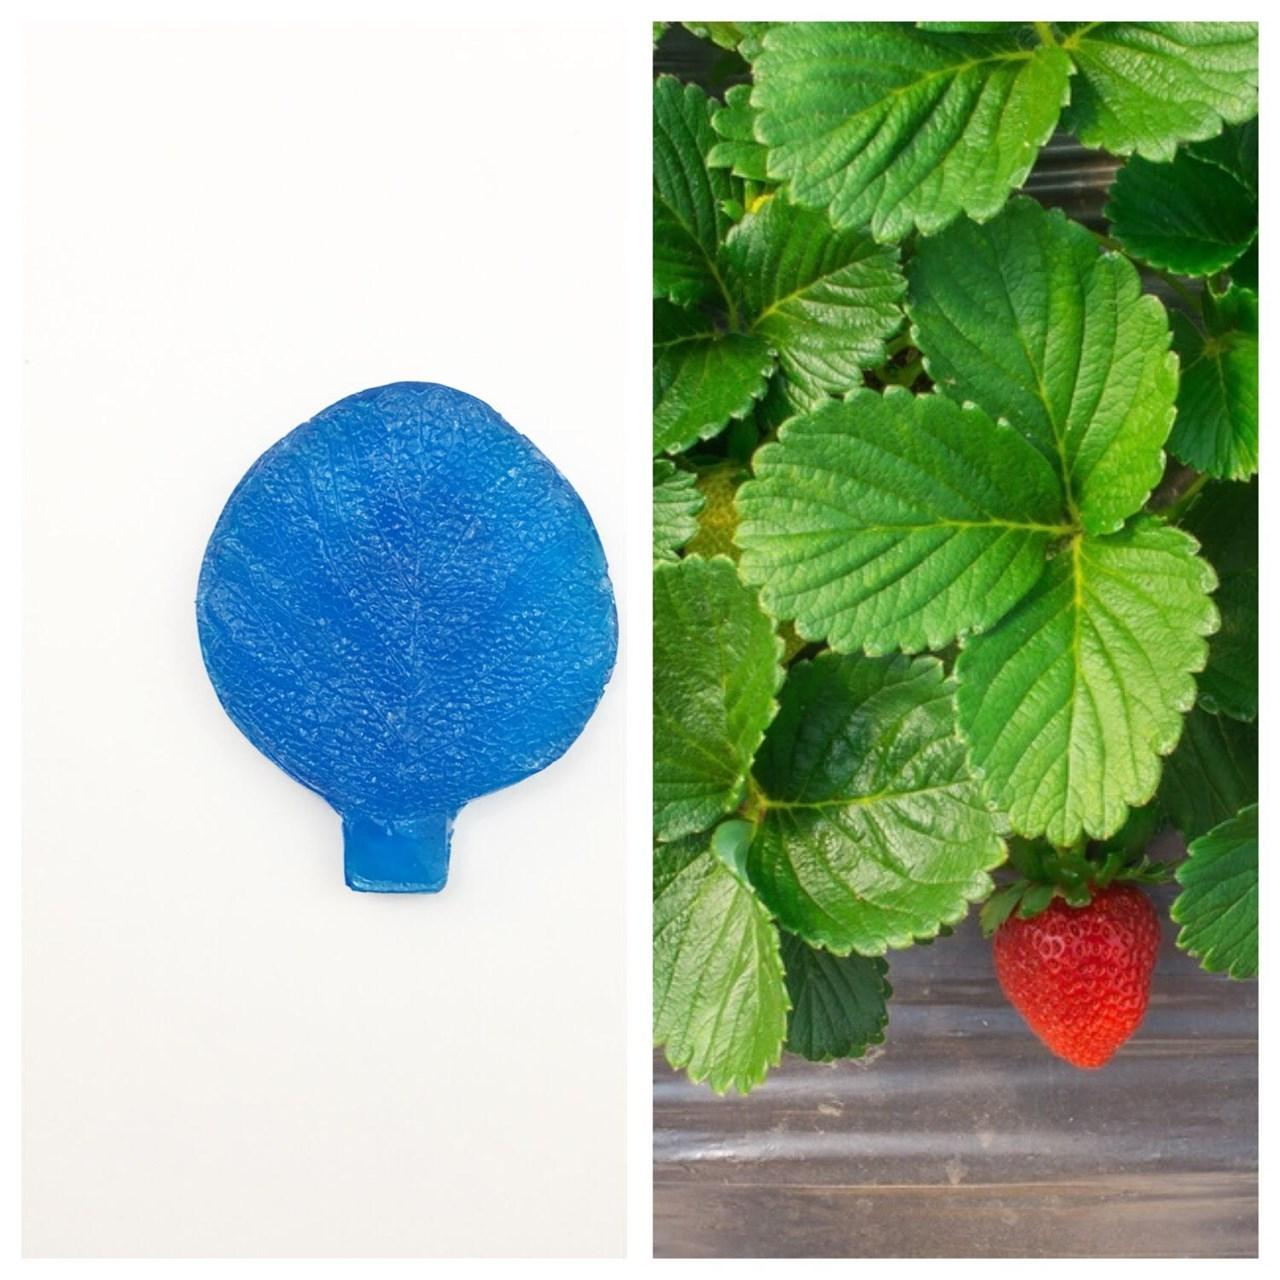Strawberry leaf: (734, 634, 1027, 1005), (905, 179, 1196, 545), (938, 523, 1218, 855), (719, 8, 1070, 245), (734, 414, 1069, 661)
